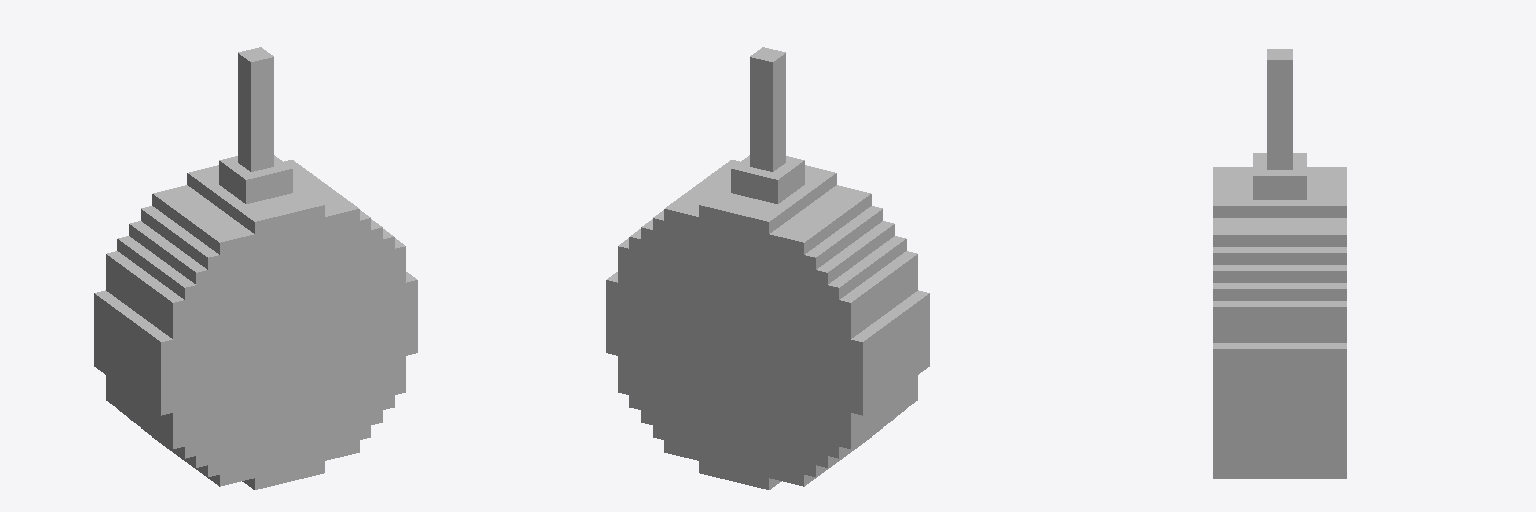
The model's file is Going Up7.obj.
3 views of the same model, side by side, from view 1: azimuth 30°, elevation 25°; view 2: azimuth 150°, elevation 25°; view 3: azimuth 270°, elevation 25° (orthographic).
Size of the model in its own units: 22 by 33 by 10.